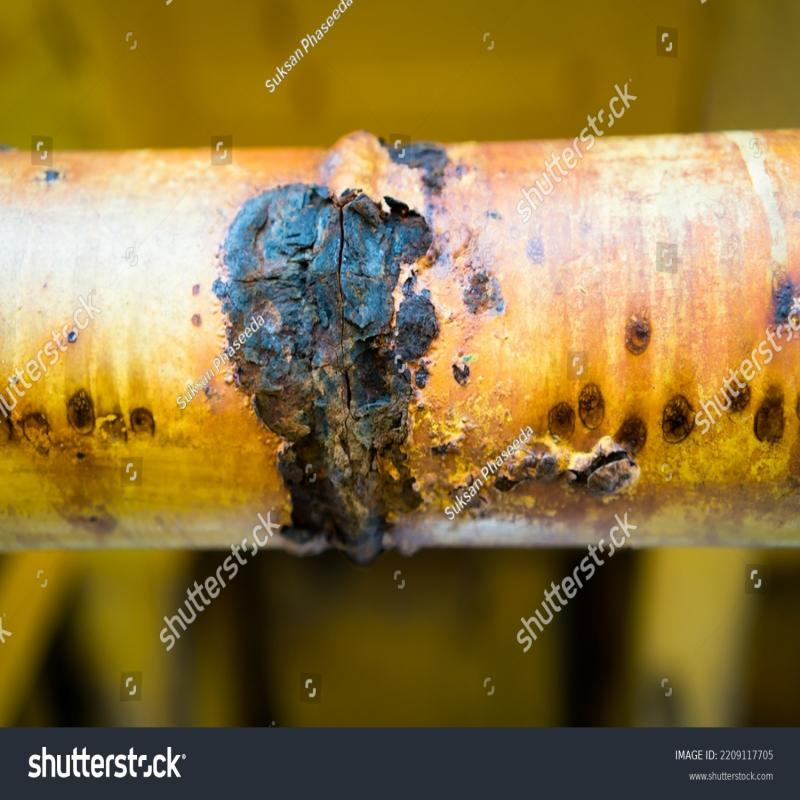Fracture: (321, 207, 375, 523)
corrosion: (230, 138, 454, 558)
